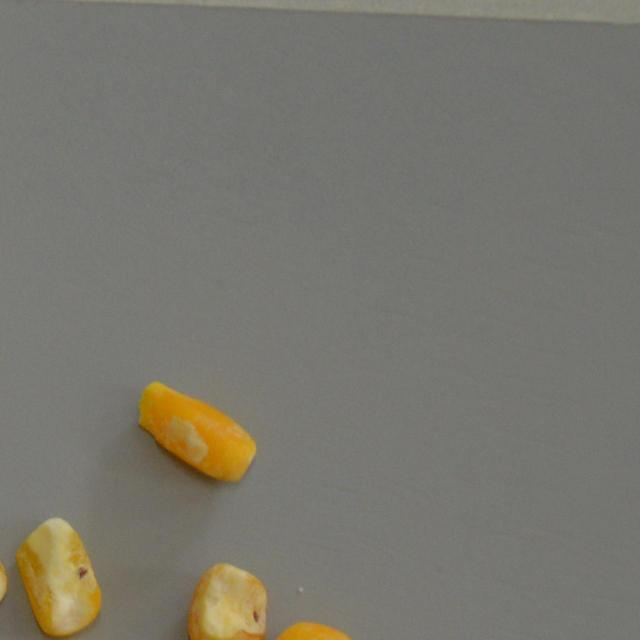estandar: (256, 619, 356, 640)
pelicula: (132, 378, 258, 488)
punto_negro: (12, 508, 105, 640), (177, 554, 272, 640)
